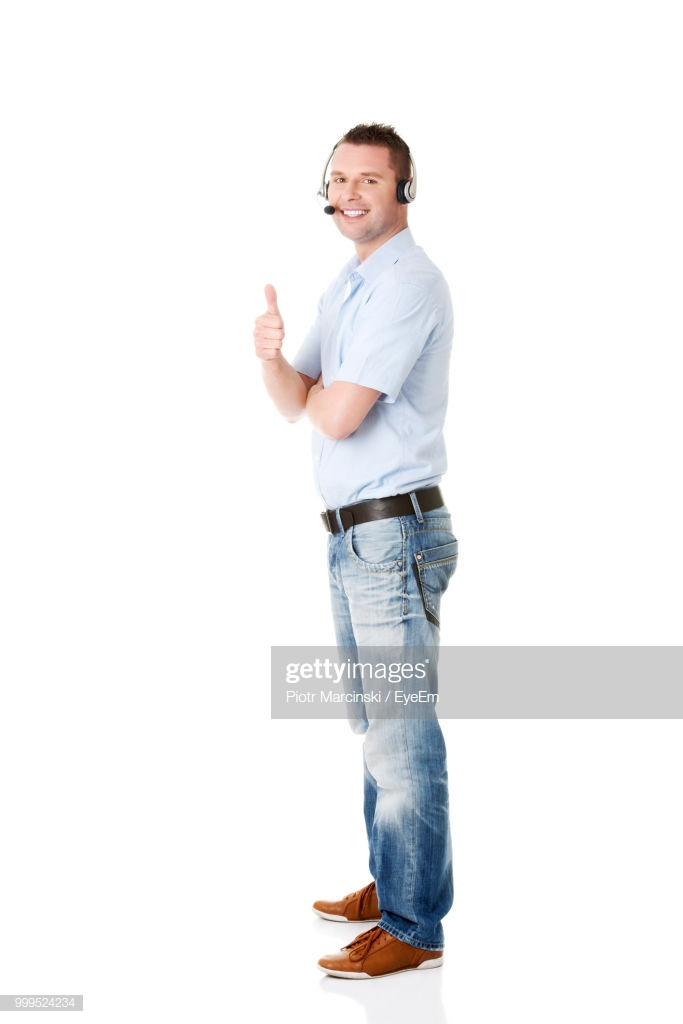thumbsup: (253, 284, 284, 361)
